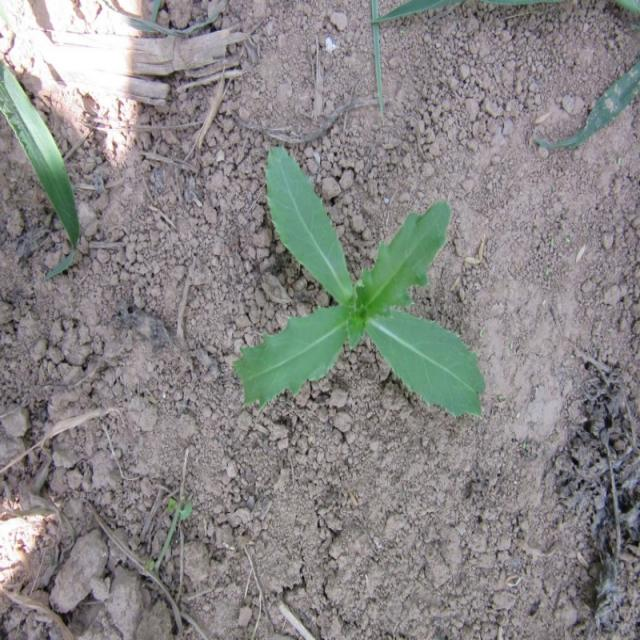cs: (232, 141, 490, 428)
